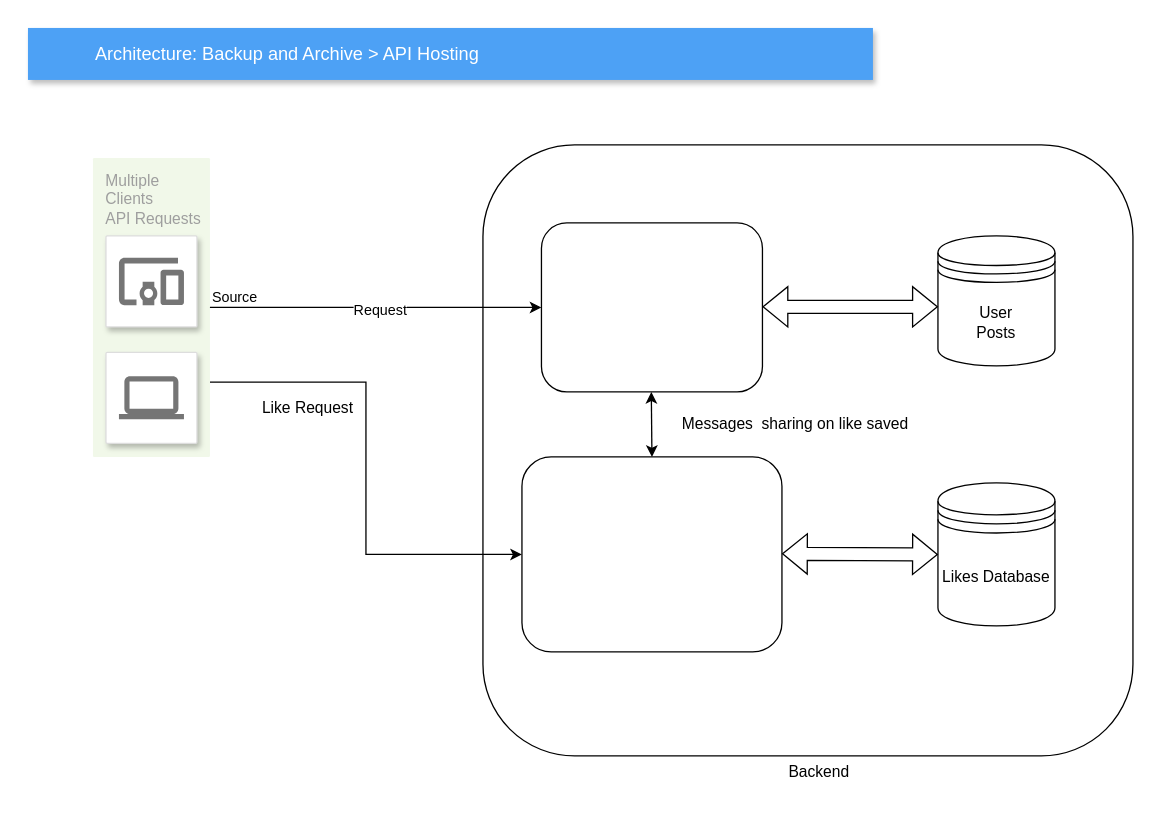
Image size: 1156x814. Some labels were removed from this diagram. Here are the shapes that lost their labels. From the top down, the centre of each, then its label:
(x=651, y=307): Main Backend Auth Post
(x=651, y=554): Like Microservice
